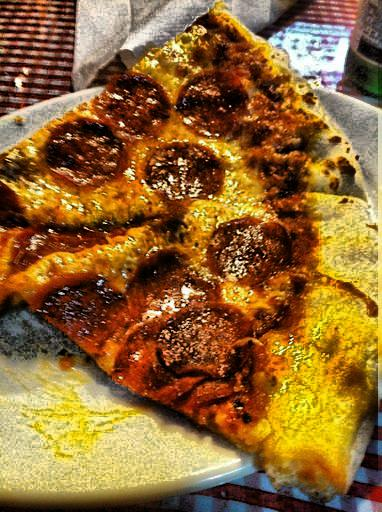pizza: (2, 13, 375, 492)
